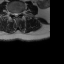CCS_stenosis: (15, 11, 17, 19)
LFS_normal: (19, 9, 22, 16)
LLS_normal: (17, 11, 19, 17)
RFS_normal: (11, 10, 13, 16)
RLS_normal: (13, 11, 15, 17)
